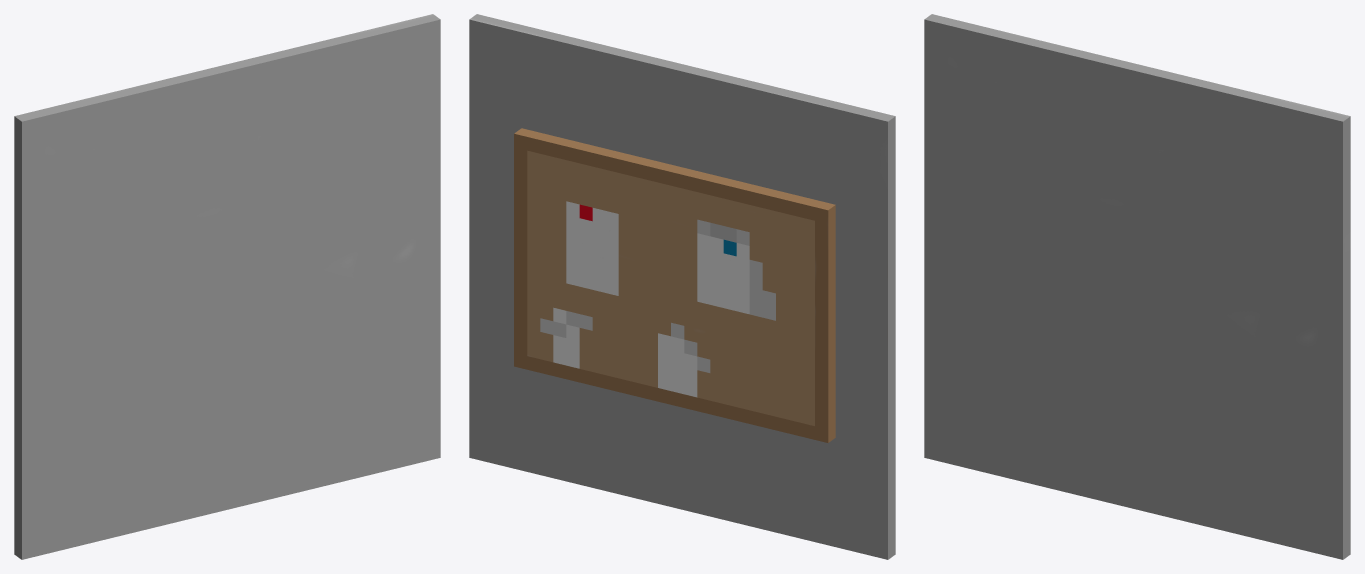
The model's file is BulletinWall 1.fbx.
3 renders of one model, left to right at view 1: azimuth 30°, elevation 25°; view 2: azimuth 150°, elevation 25°; view 3: azimuth 330°, elevation 25°, orthographic.
Visible parts, largest first — view 1: Bulletin; view 2: Bulletin; view 3: Bulletin.
Boxes of the visible parts, <box> form: Bulletin: <box>14,14,440,559</box>; Bulletin: <box>469,14,895,559</box>; Bulletin: <box>924,14,1350,559</box>.
Size of the model in its own units: 38.1 by 610 by 610.
1 material, 1 textured.
